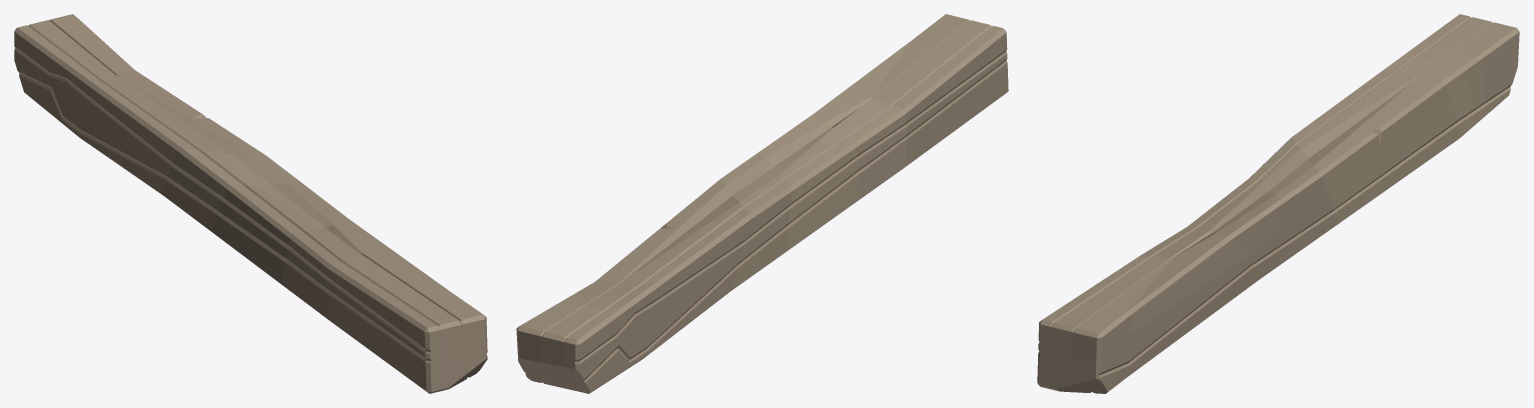
Rendered from poutre00.fbx.
3 views of the same model, side by side, from view 1: azimuth 30°, elevation 25°; view 2: azimuth 150°, elevation 25°; view 3: azimuth 330°, elevation 25° (orthographic). The views are drawn at different scales.
Visible parts, largest first — view 1: poutre00; view 2: poutre00; view 3: poutre00.
Part boxes in pixels (x1=…): poutre00: x1=14, y1=14, x2=487, y2=393; poutre00: x1=516, y1=14, x2=1008, y2=393; poutre00: x1=1037, y1=14, x2=1519, y2=393.
Bounding box in the file's own units: 2.71 × 2.85 × 31.65.
